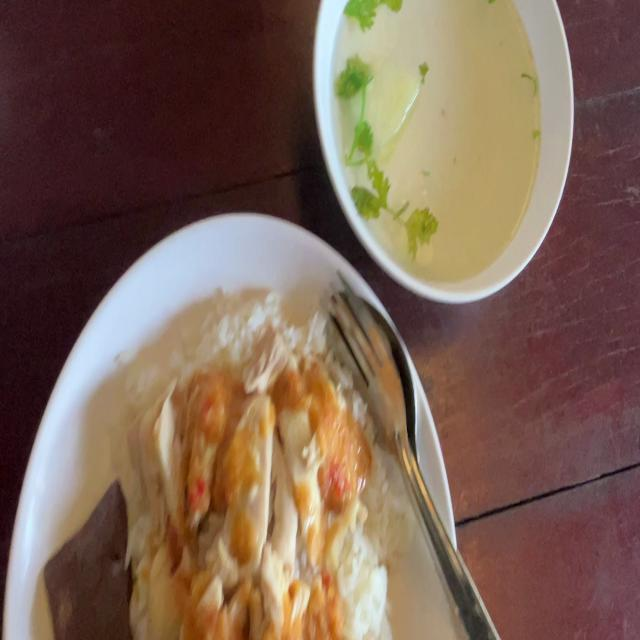chicken_rice: (36, 287, 404, 640), (156, 357, 348, 616)
